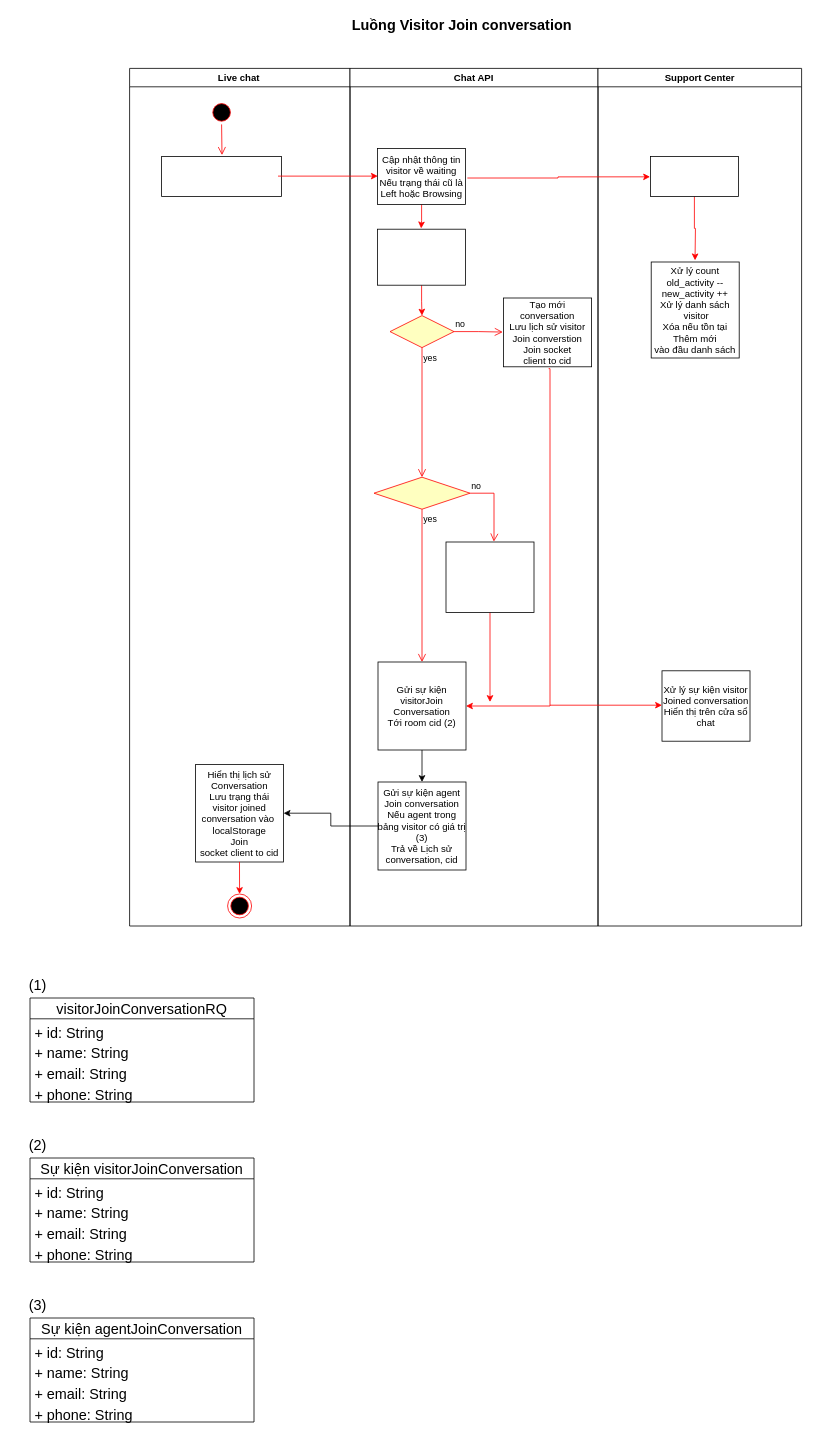
This 815x1438 diagram has some shape labels left out. Here are the shapes that lost their labels. From the top down, the centre of each, then its label:
At point 221,176: "Gọi API Join Conversation (1)".
At point 694,176: "Nhận sự kiện cập nhật visitor".
At point 421,256: "Get conversation id".
At point 421,331: "cid?".
At point 421,492: "hasVisitor".
At point 489,576: "Lưu lịch sử VisitorJoined Conversation".
